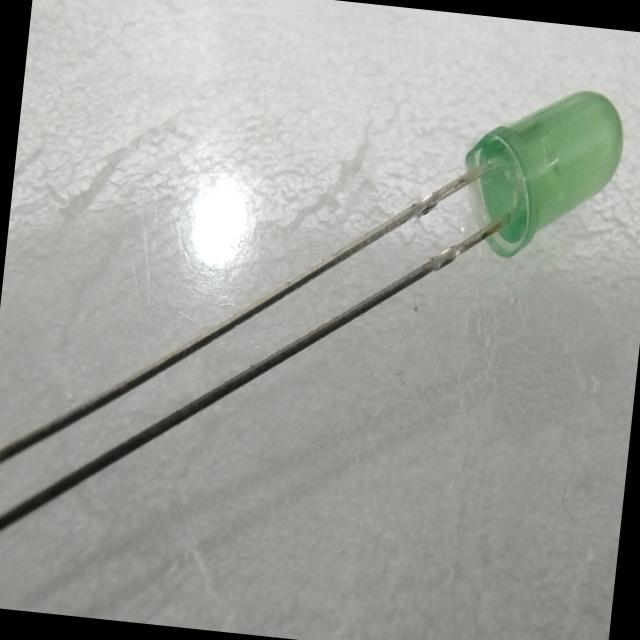green_led: (448, 64, 640, 281)
